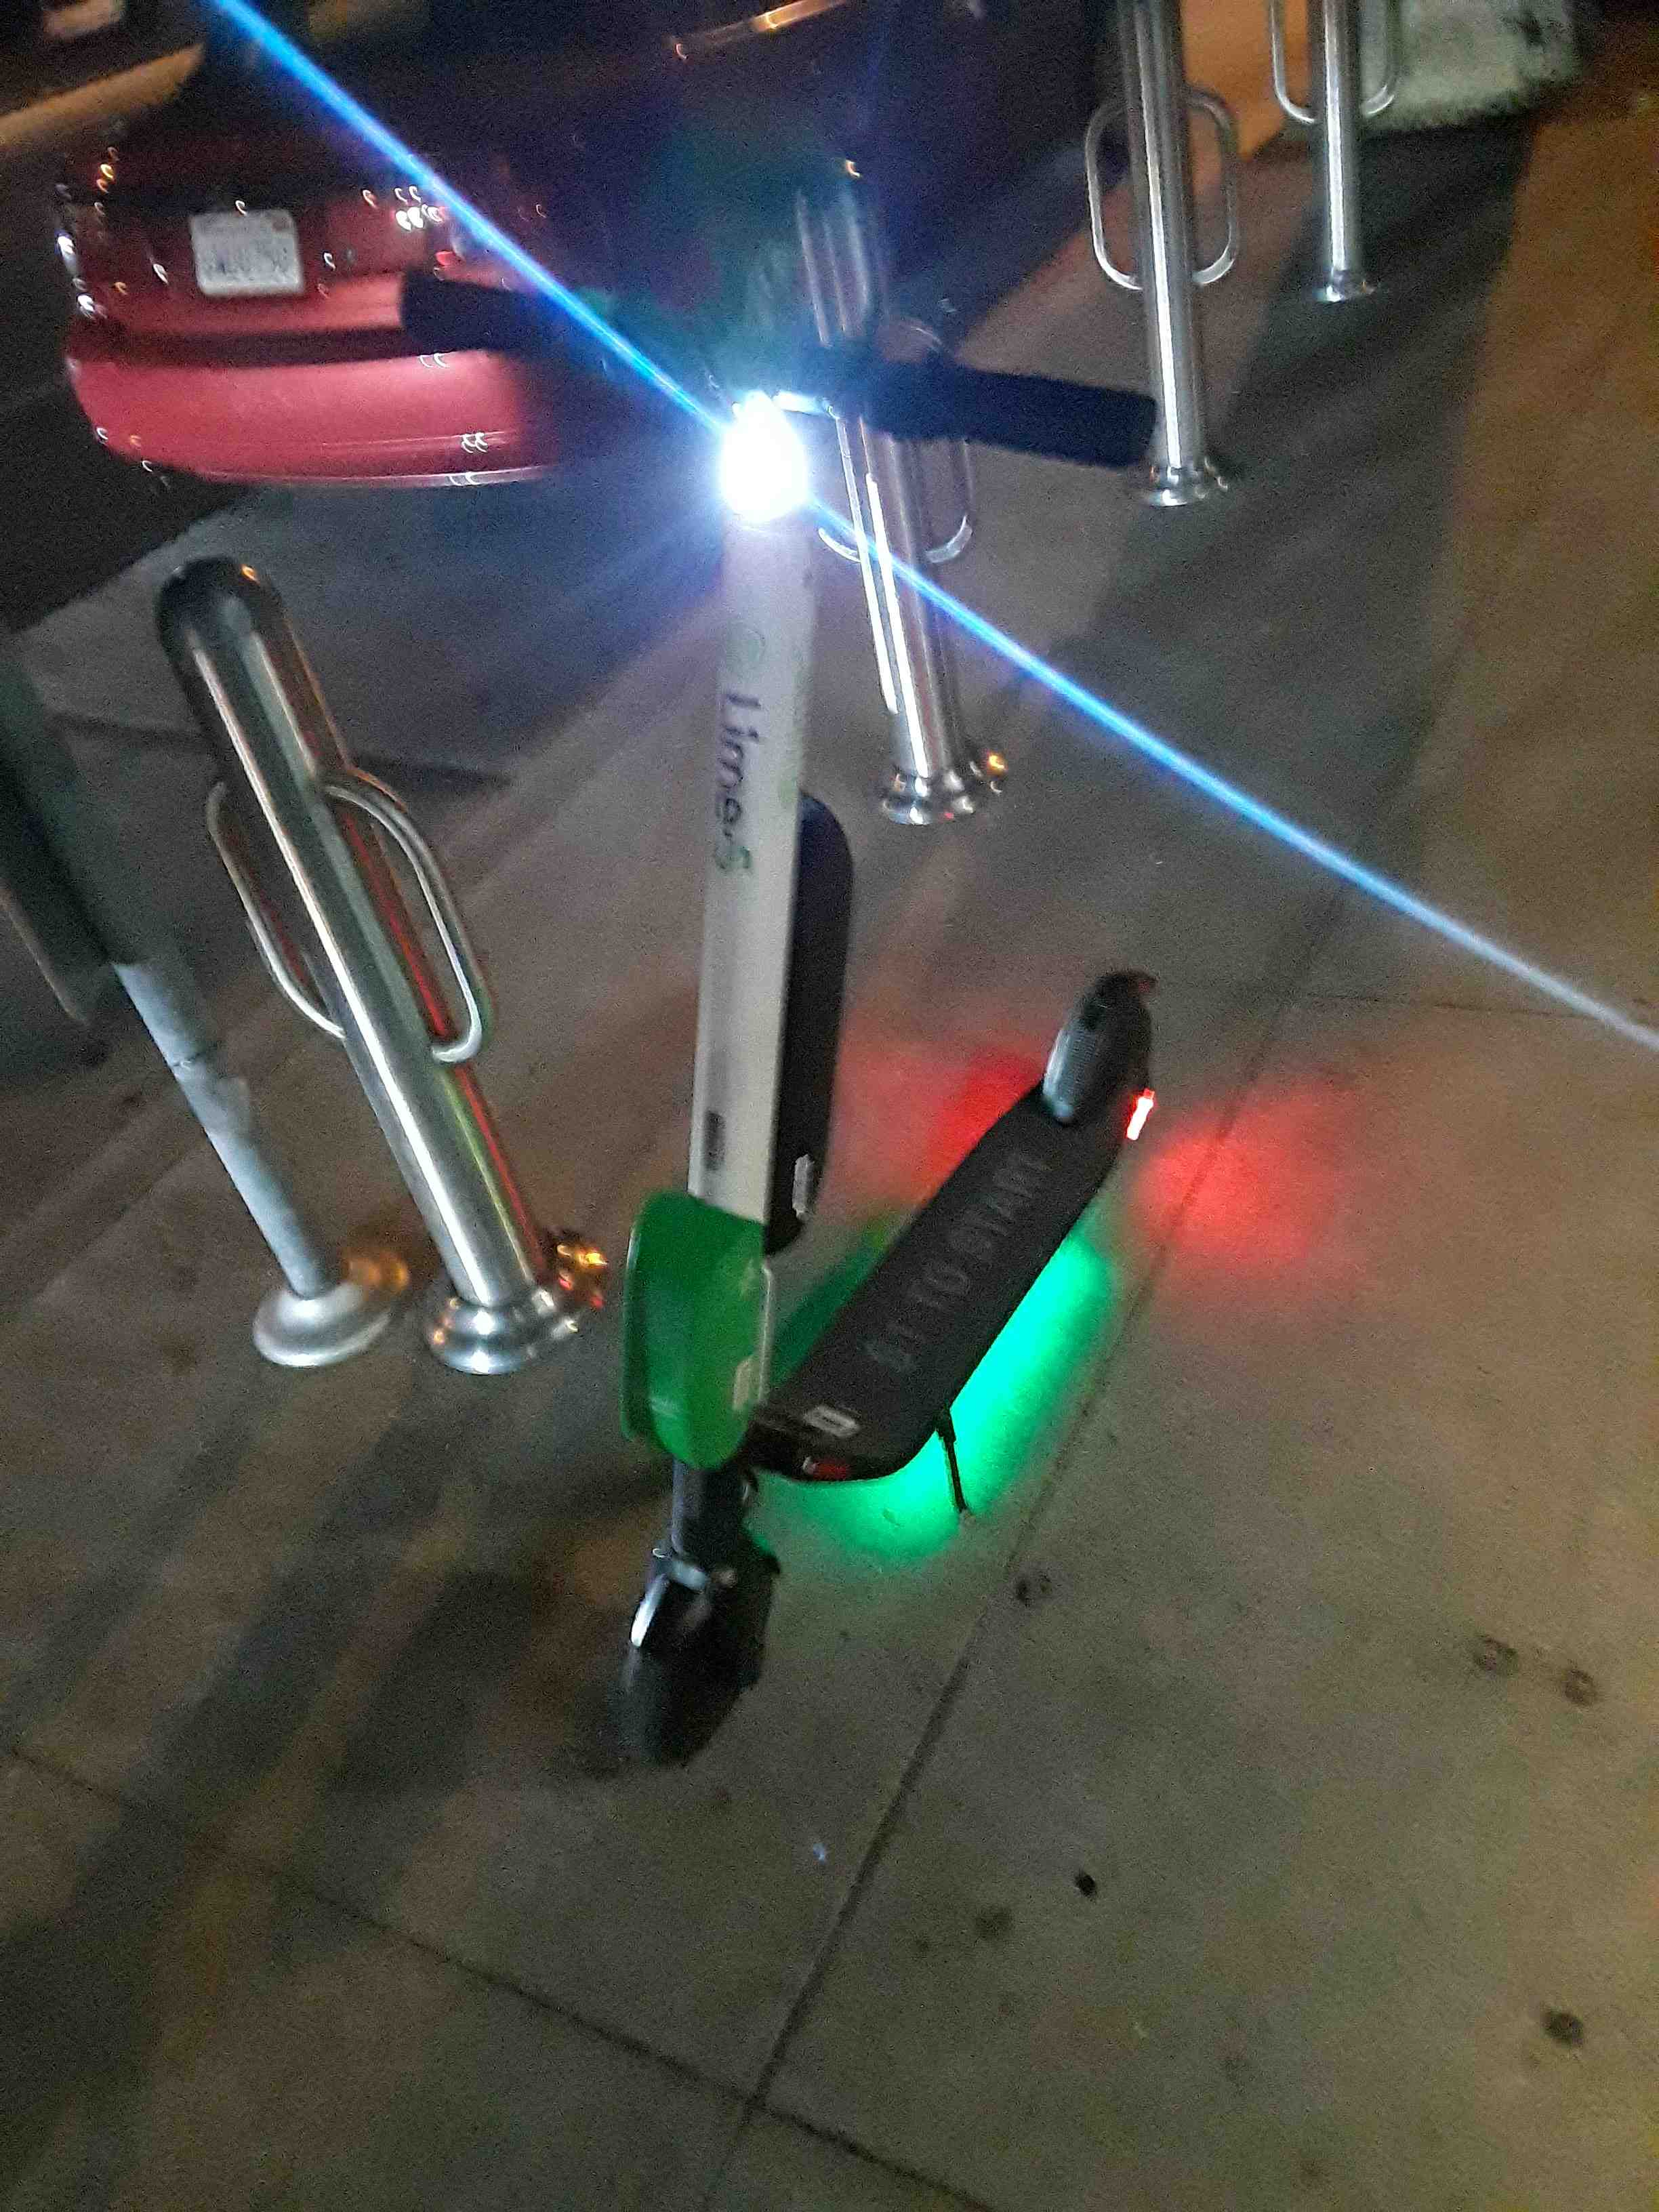scooter: (521, 381, 1211, 1850)
